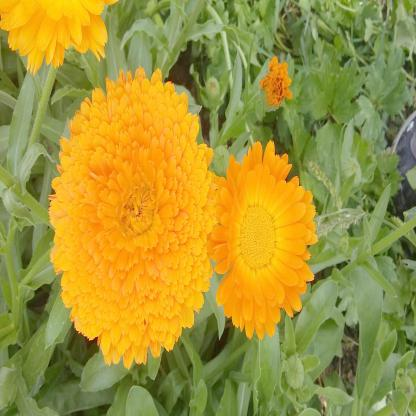marigold: (52, 72, 211, 364), (214, 143, 313, 338)
